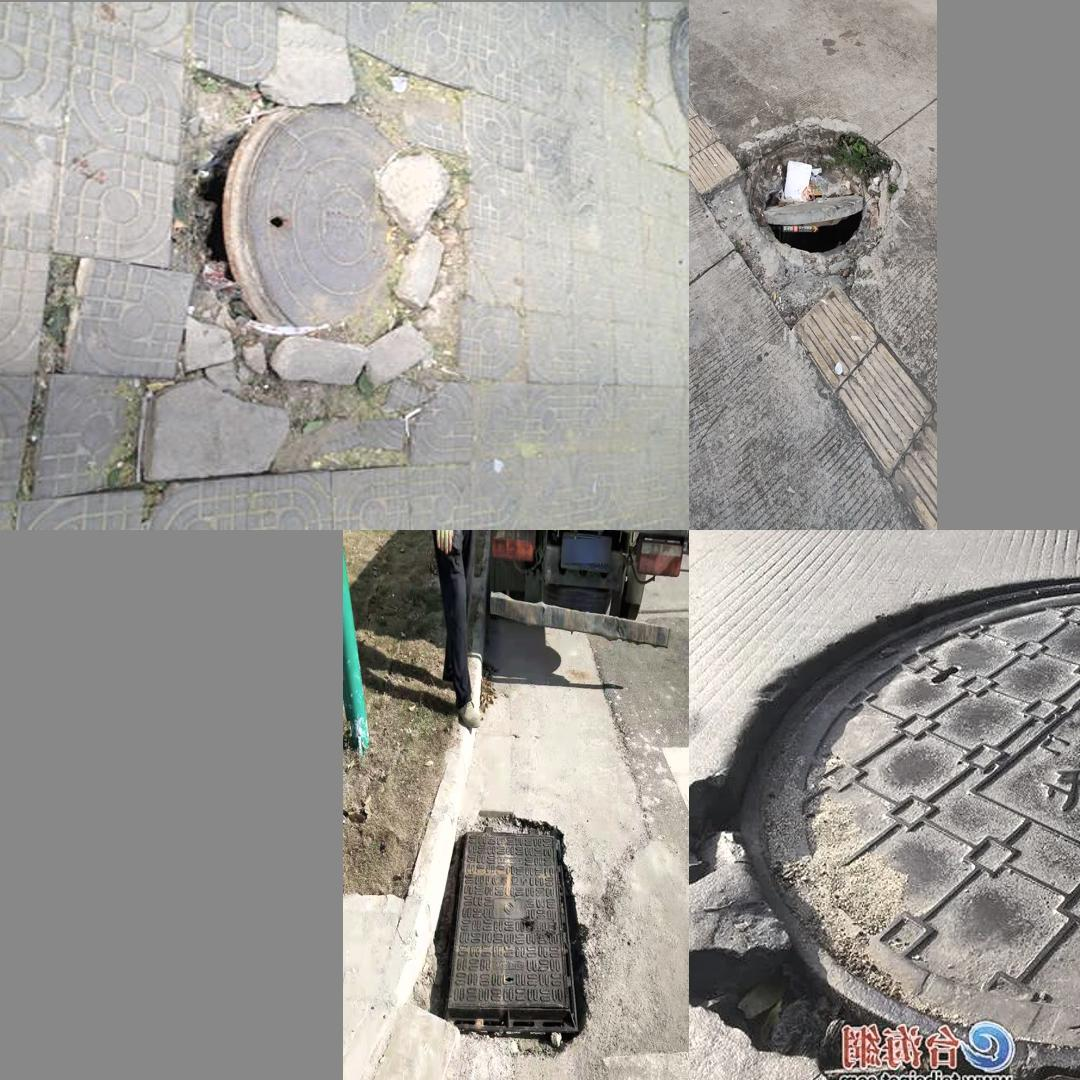circle: (705, 572, 1080, 1080), (138, 69, 474, 486), (712, 112, 915, 315), (427, 820, 588, 1049)
